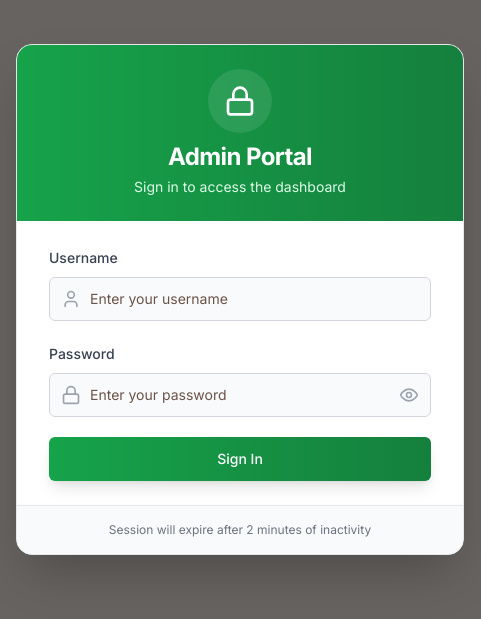
Test: AdminLoginModal › validates required fields
Click the button "Sign In" at (240, 458), box [49,436,431,480]
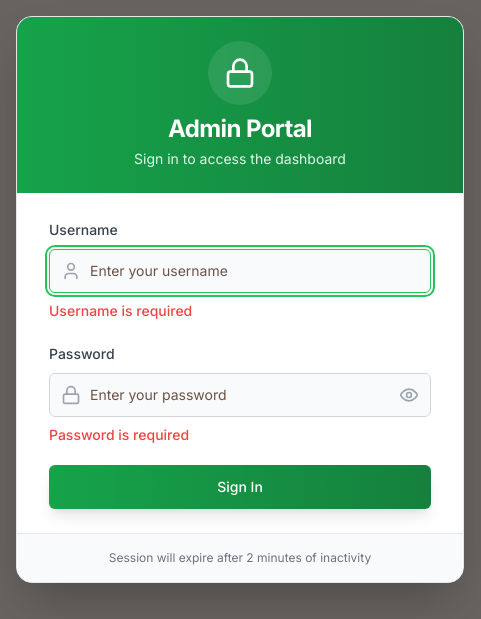
Expected: the text "Username is required" is shown, [49,302,192,318]
Expected: the text "Password is required" is shown, [49,426,189,442]
